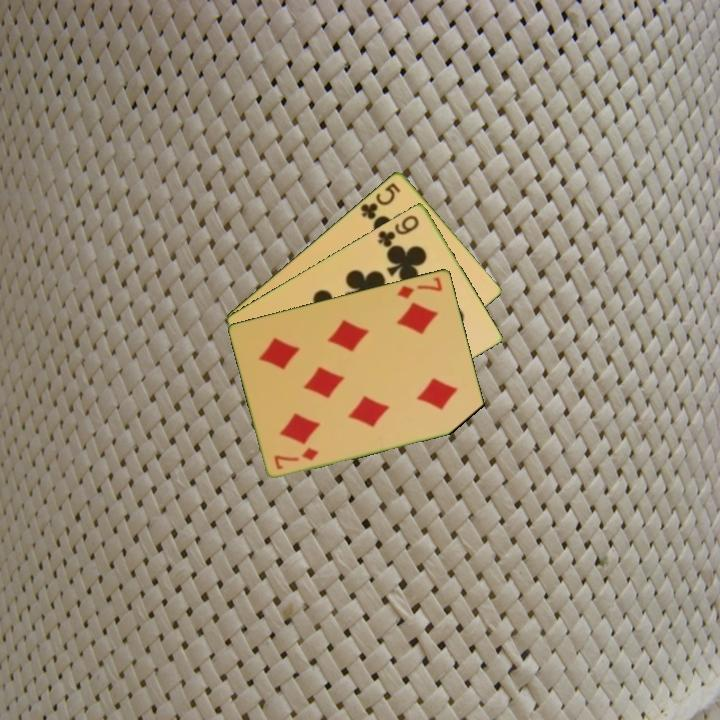5c: (357, 179, 403, 222)
7d: (271, 443, 322, 472), (394, 273, 445, 301)
9c: (374, 211, 422, 250)
